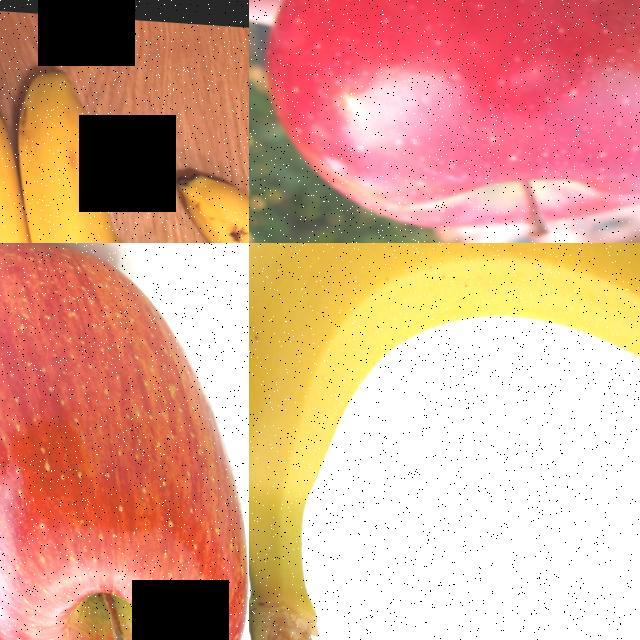apple: (0, 243, 249, 640), (249, 0, 640, 243)
banana: (249, 243, 640, 640), (0, 0, 249, 243)
